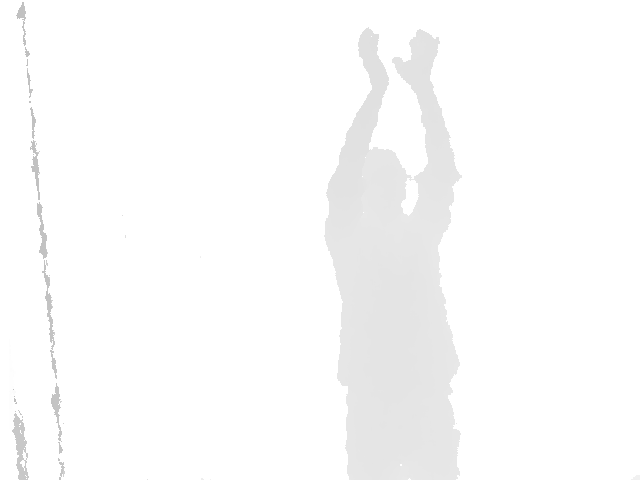hand: (391, 29, 440, 93), (356, 27, 390, 89)
head: (350, 150, 408, 209)
person: (323, 27, 465, 480)
